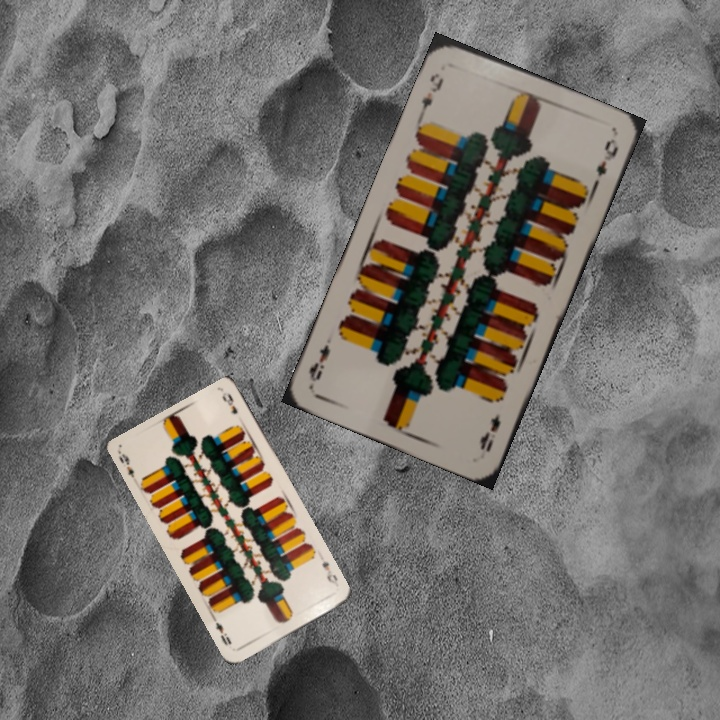E9: (416, 69, 446, 118), (475, 411, 503, 455), (318, 557, 342, 590), (115, 449, 137, 480)
